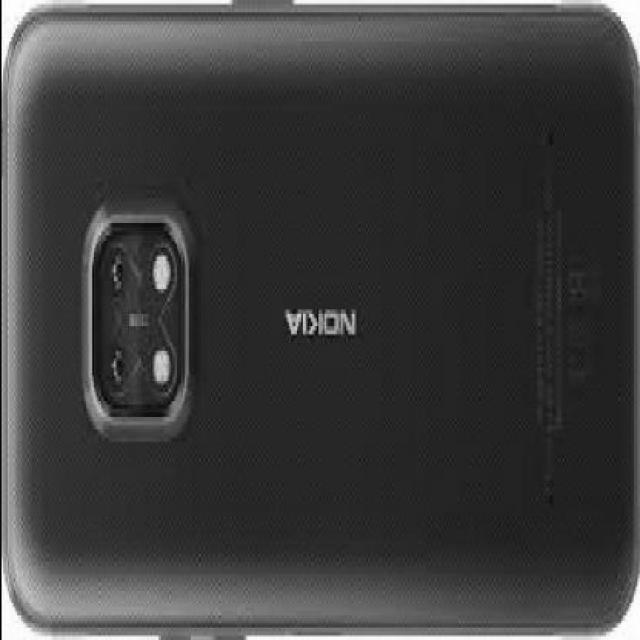fake: (2, 1, 638, 637)
